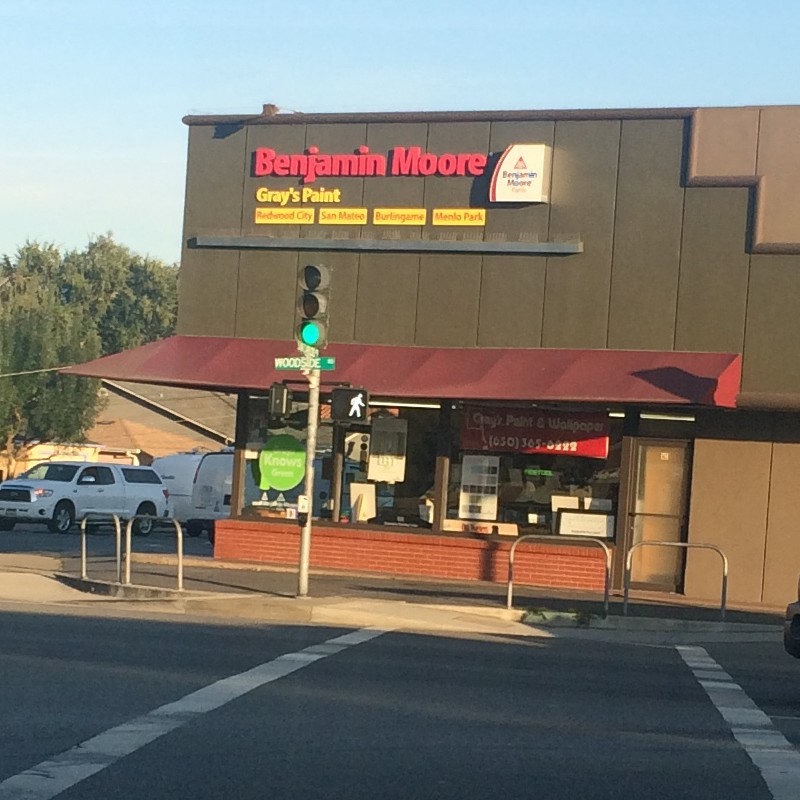go: (329, 381, 375, 431)
